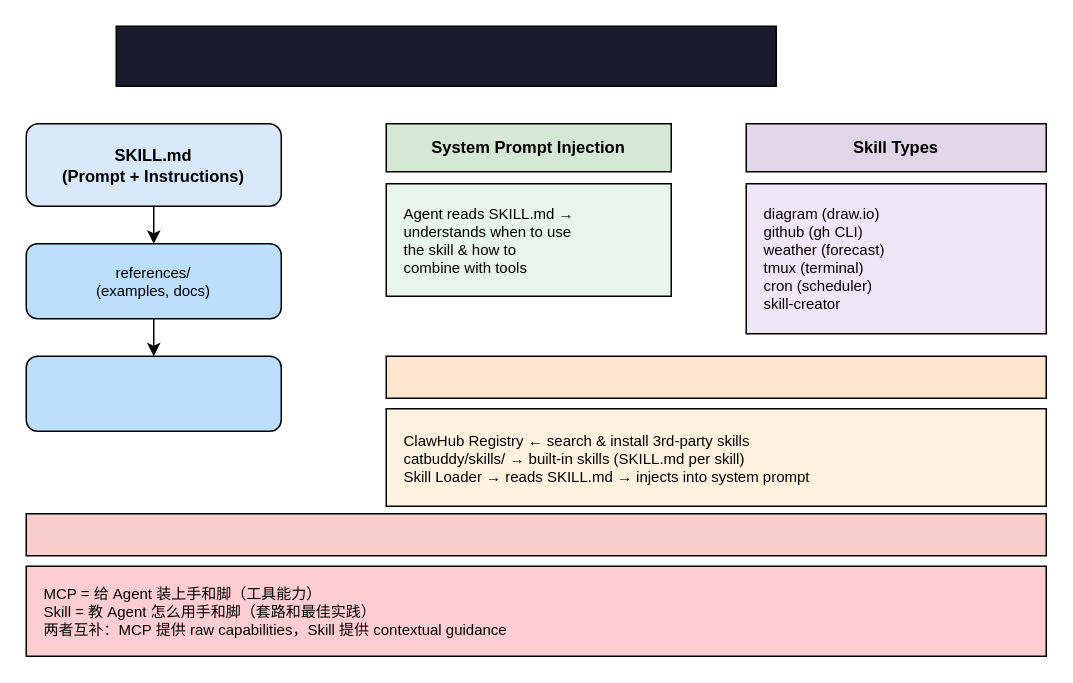
Some shapes in this 1073 by 683 pixel diagram are drawn without their labels. Here are the shapes that lost their labels. From the top down, the box of each, then its label:
(115, 25, 776, 86): Skill System — MCP 给手脚，Skill 教套路
(25, 355, 281, 431): scripts/ (executable tools)
(385, 355, 1046, 398): Built-in Skill Manifest
(25, 512, 1046, 556): Design Philosophy
